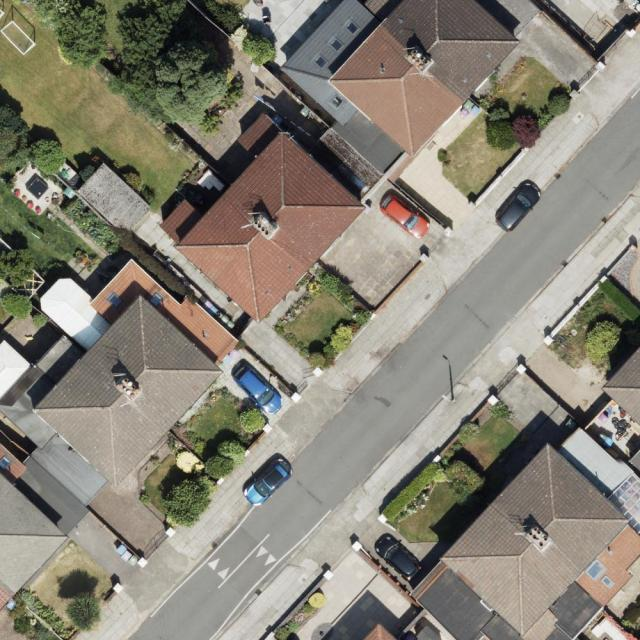roof: (156, 0, 540, 321), (0, 257, 240, 614), (406, 427, 640, 640), (600, 346, 640, 429), (363, 621, 397, 640)
skylight: (606, 472, 640, 537), (585, 557, 608, 581), (105, 290, 124, 309), (343, 18, 361, 37), (313, 52, 330, 71), (327, 36, 344, 54), (328, 93, 344, 110), (150, 291, 165, 307), (601, 575, 614, 590)
